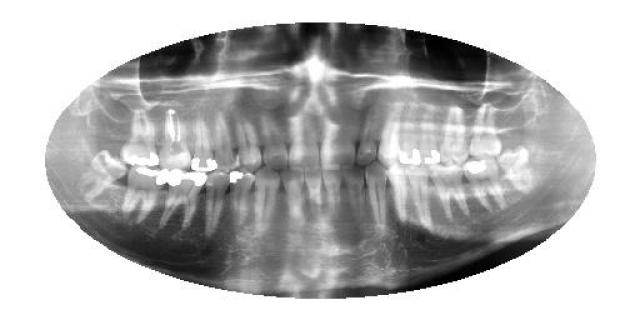Fillings: (158, 170, 212, 228), (122, 165, 172, 223), (462, 158, 508, 214), (120, 109, 160, 168), (230, 170, 255, 228), (192, 114, 216, 171), (400, 101, 421, 165), (422, 100, 442, 165)
